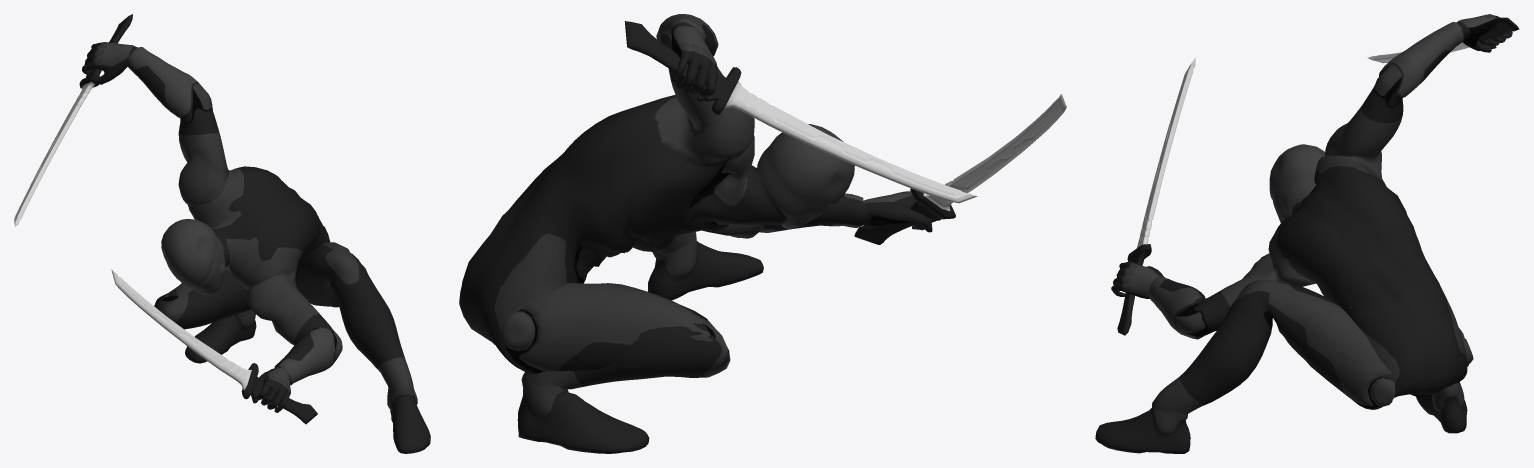
3 renders of one model, left to right at view 1: azimuth 30°, elevation 25°; view 2: azimuth 150°, elevation 25°; view 3: azimuth 270°, elevation 25°, orthographic. The views are drawn at different scales.
Parts seen in each view (by area): view 1: Cyborg_Ninja_Killer, Sword_l, Sword_l001; view 2: Cyborg_Ninja_Killer, Sword_l001, Sword_l; view 3: Cyborg_Ninja_Killer, Sword_l, Sword_l001.
Part boxes in pixels (x1,y1,x2,y2): Cyborg_Ninja_Killer: (82,42,430,453); Sword_l: (111,269,317,424); Sword_l001: (14,14,132,226); Cyborg_Ninja_Killer: (459,14,935,453); Sword_l001: (624,21,977,203); Sword_l: (854,94,1066,244); Cyborg_Ninja_Killer: (1095,14,1512,453); Sword_l: (1117,57,1195,335); Sword_l001: (1367,17,1519,63).
Size of the model in its own units: 126 by 116 by 122.
2 materials, 2 textured.
